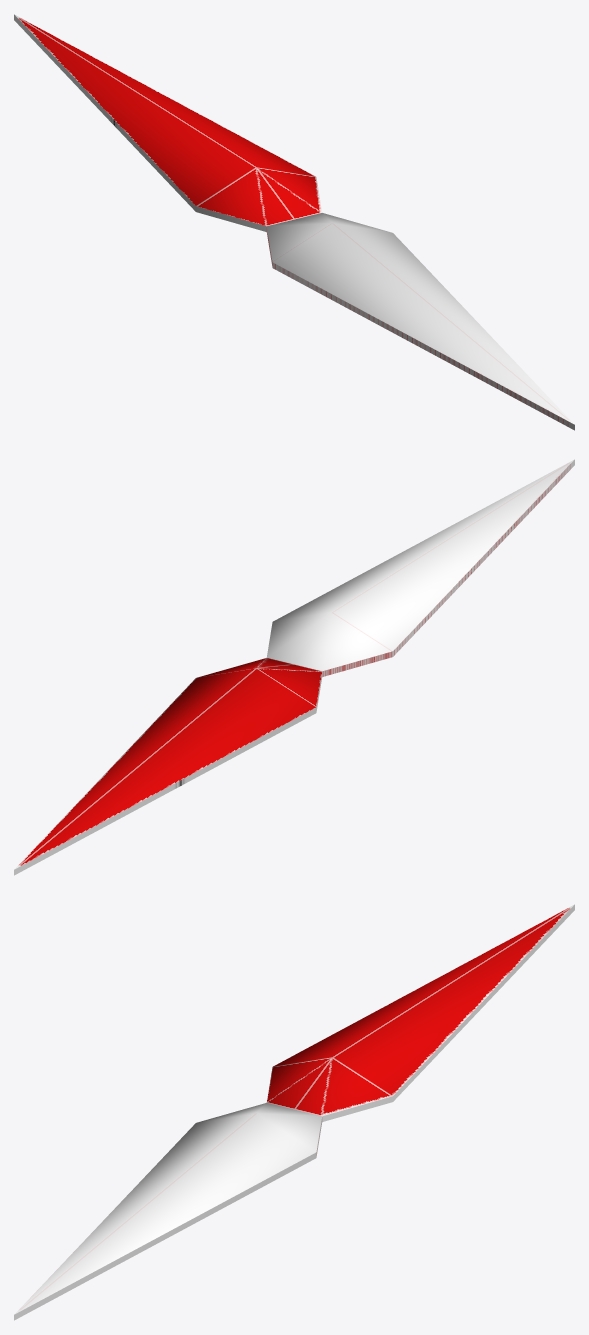
Rendered from strzala.obj.
3 renders of one model, top to bottom at view 1: azimuth 30°, elevation 25°; view 2: azimuth 150°, elevation 25°; view 3: azimuth 330°, elevation 25°, orthographic.
Parts seen in each view (by area): view 1: Box02; view 2: Box02; view 3: Box02.
Part boxes in pixels (bbox=[...]): Box02: bbox=[14, 14, 574, 430]; Box02: bbox=[14, 459, 574, 875]; Box02: bbox=[14, 904, 574, 1320].
Bounding box in the file's own units: 10.64 × 2.54 × 85.81.
Materials: 1 (1 with a texture image).
